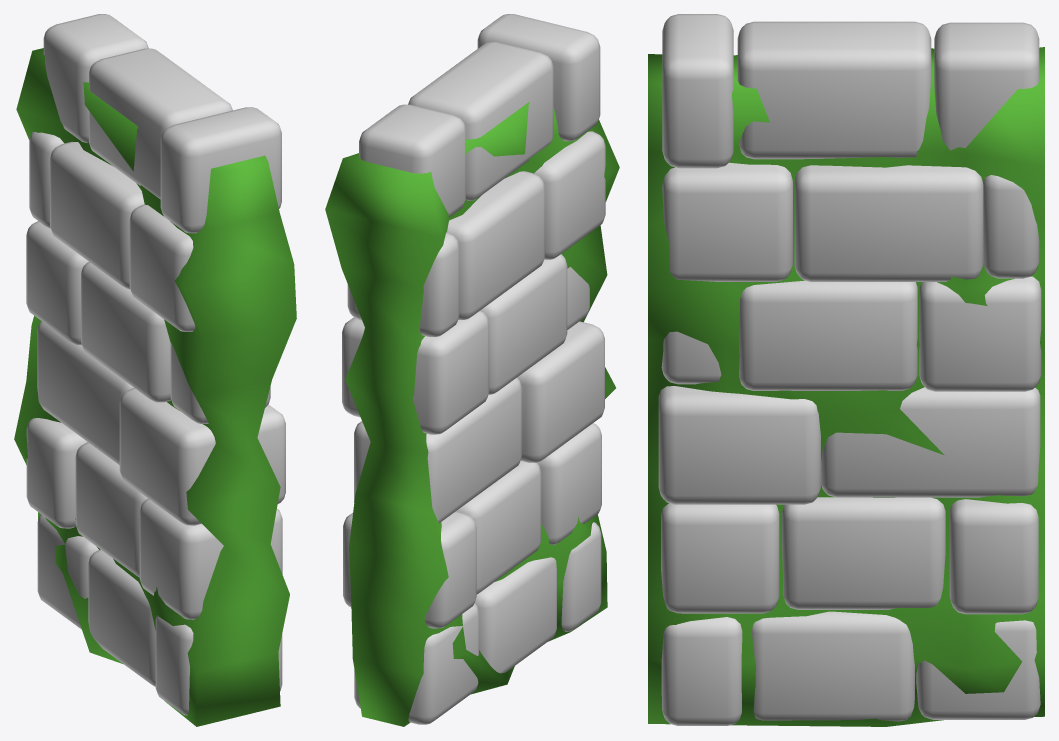
File: walls_half_future.fbx
The picture shows the model from 3 angles, left to right: view 1: azimuth 30°, elevation 25°; view 2: azimuth 150°, elevation 25°; view 3: azimuth 270°, elevation 25°; orthographic projection. The views are drawn at different scales.
Parts seen in each view (by area): view 1: Cube.015; view 2: Cube.015; view 3: Cube.015.
Boxes of the visible parts, <box> form: Cube.015: <box>14,14,296,726</box>; Cube.015: <box>325,14,619,726</box>; Cube.015: <box>648,14,1044,726</box>.
Size of the model in its own units: 0.4003 by 1.84 by 0.9917.
